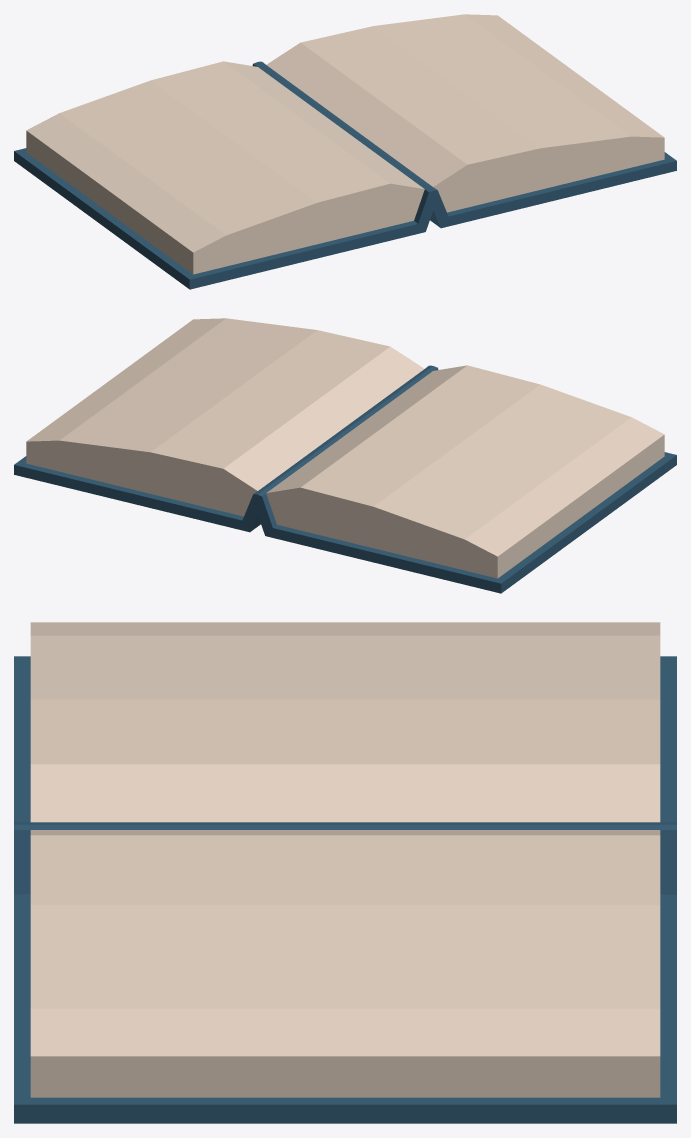
The model's file is fantasy_book_open.fbx.
The picture shows the model from 3 angles, top to bottom: view 1: azimuth 30°, elevation 25°; view 2: azimuth 150°, elevation 25°; view 3: azimuth 270°, elevation 25°; orthographic projection. The views are drawn at different scales.
Visible parts, largest first — view 1: Cube.267; view 2: Cube.267; view 3: Cube.267.
Boxes of the visible parts, x1=… form: Cube.267: x1=14, y1=14, x2=676, y2=289; Cube.267: x1=14, y1=318, x2=676, y2=593; Cube.267: x1=14, y1=622, x2=676, y2=1123.
Size of the model in its own units: 64 by 6.63 by 40.
